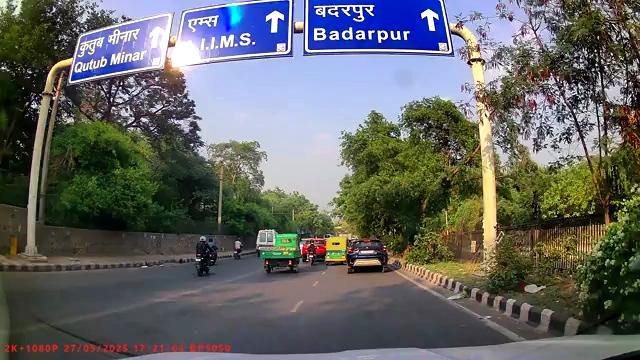motorcycle_with_helmet: (193, 235, 214, 276)
